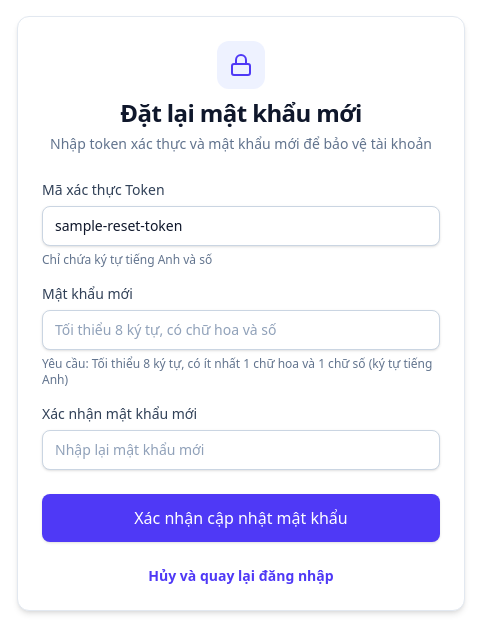
Auth Pages Integration › ResetPasswordPage › reads token from URL and submits new password
Type "NewSecurePass123" into the password field labelled "Mật khẩu mới" at x=241, y=330, box x1=42 y1=310 x2=440 y2=350
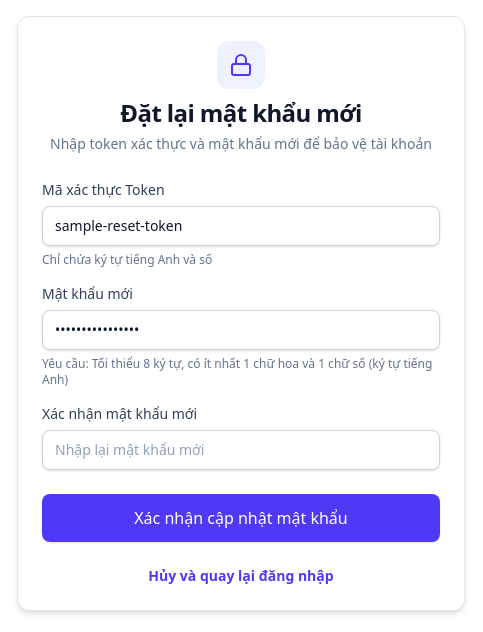
Type "NewSecurePass123" into the password field labelled "Xác nhận mật khẩu mới" at x=241, y=450, box x1=42 y1=430 x2=440 y2=470
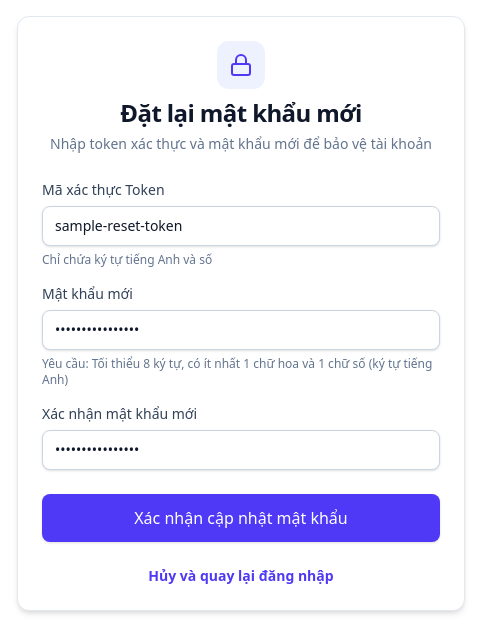
Click the button "Xác nhận cập nhật mật khẩu" at x=241, y=518, box x1=42 y1=494 x2=440 y2=542
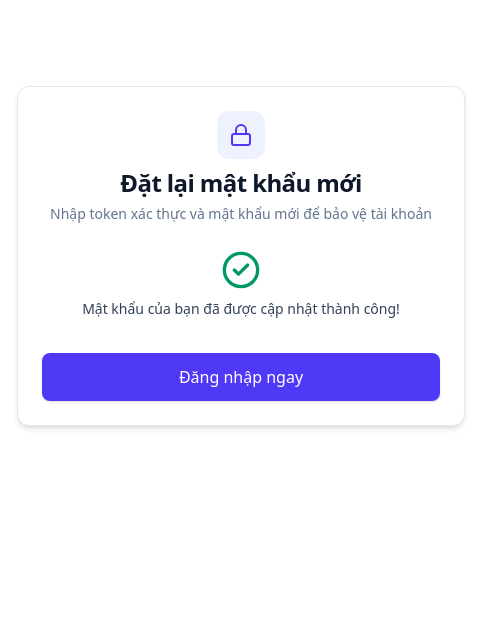
Result: the text "Mật khẩu của bạn đã được cập nhật thành công!" is shown at x1=82 y1=299 x2=400 y2=318
